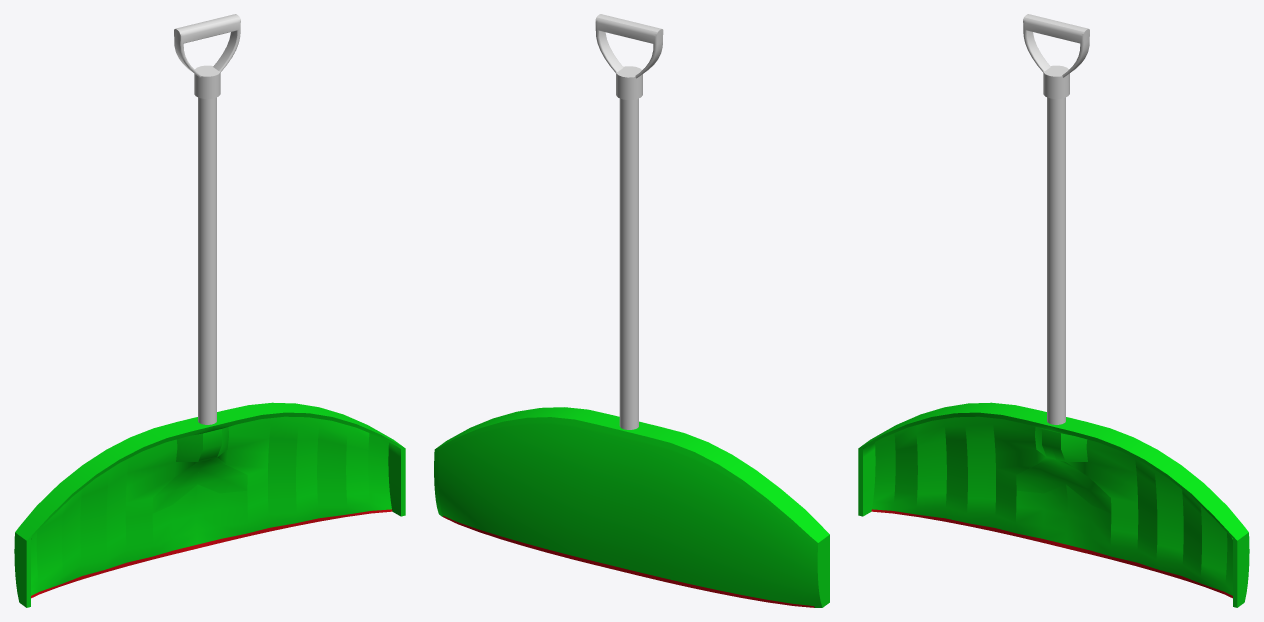
The model's file is Shovel.fbx.
The picture shows the model from 3 angles, left to right: view 1: azimuth 30°, elevation 25°; view 2: azimuth 150°, elevation 25°; view 3: azimuth 330°, elevation 25°; orthographic projection.
Parts seen in each view (by area): view 1: Spoon, Bar, Handle; view 2: Spoon, Bar, Handle; view 3: Spoon, Bar, Handle.
Boxes of the visible parts, x1,y1,x2,y2 form: Spoon: (14, 402, 405, 607); Bar: (198, 97, 216, 424); Handle: (174, 14, 240, 98); Spoon: (434, 407, 829, 607); Bar: (619, 98, 638, 429); Handle: (595, 14, 663, 99); Spoon: (858, 402, 1249, 607); Bar: (1047, 97, 1065, 424); Handle: (1023, 14, 1089, 98).
Bounding box in the file's own units: 1.35 × 0.1352 × 1.82.
